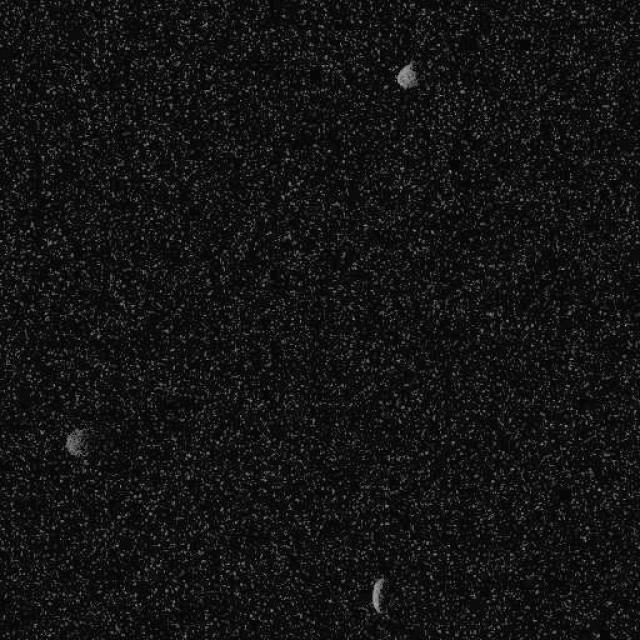D2: (64, 427, 88, 458), (395, 61, 419, 90), (370, 576, 385, 614)
